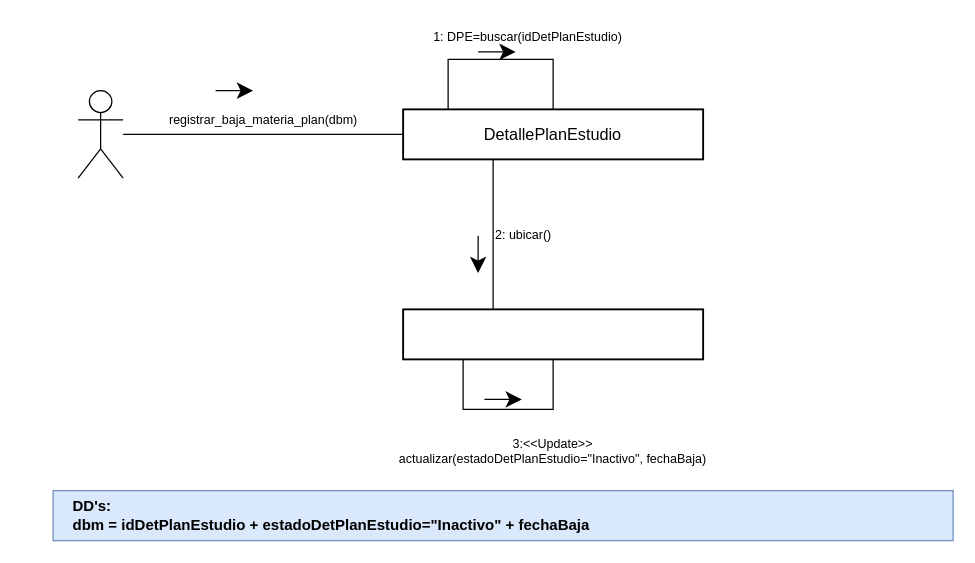
The diagram is 975 pixels wide and 563 high, and some of its shapes have lost their labels. Here are the shapes that lost their labels. From the top down, the centre of each, then its label:
[100,133]: Coordinador de Carrera
[553,334]: DPE : DetallePlanEstudio
